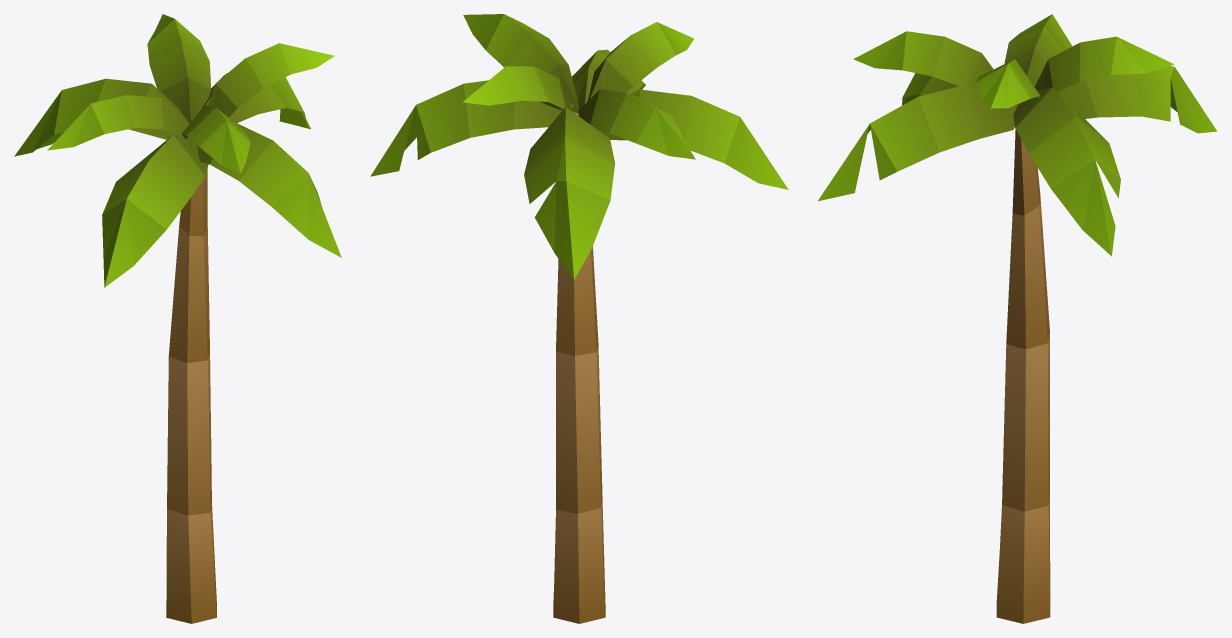
File: Palm_Tree_C.fbx
3 views of the same model, side by side, from view 1: azimuth 30°, elevation 25°; view 2: azimuth 150°, elevation 25°; view 3: azimuth 270°, elevation 25° (orthographic). The views are drawn at different scales.
Visible parts, largest first — view 1: Palm_Tree_C; view 2: Palm_Tree_C; view 3: Palm_Tree_C.
Part boxes in pixels (x1,y1,x2,y2): Palm_Tree_C: [14, 14, 341, 623]; Palm_Tree_C: [370, 14, 788, 623]; Palm_Tree_C: [818, 14, 1217, 623].
Bounding box in the file's own units: 272 × 470 × 290.
